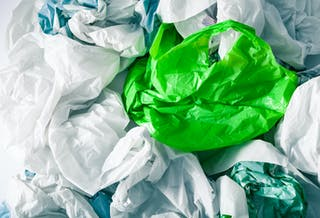plastic_bagwdw: (120, 19, 301, 180)
